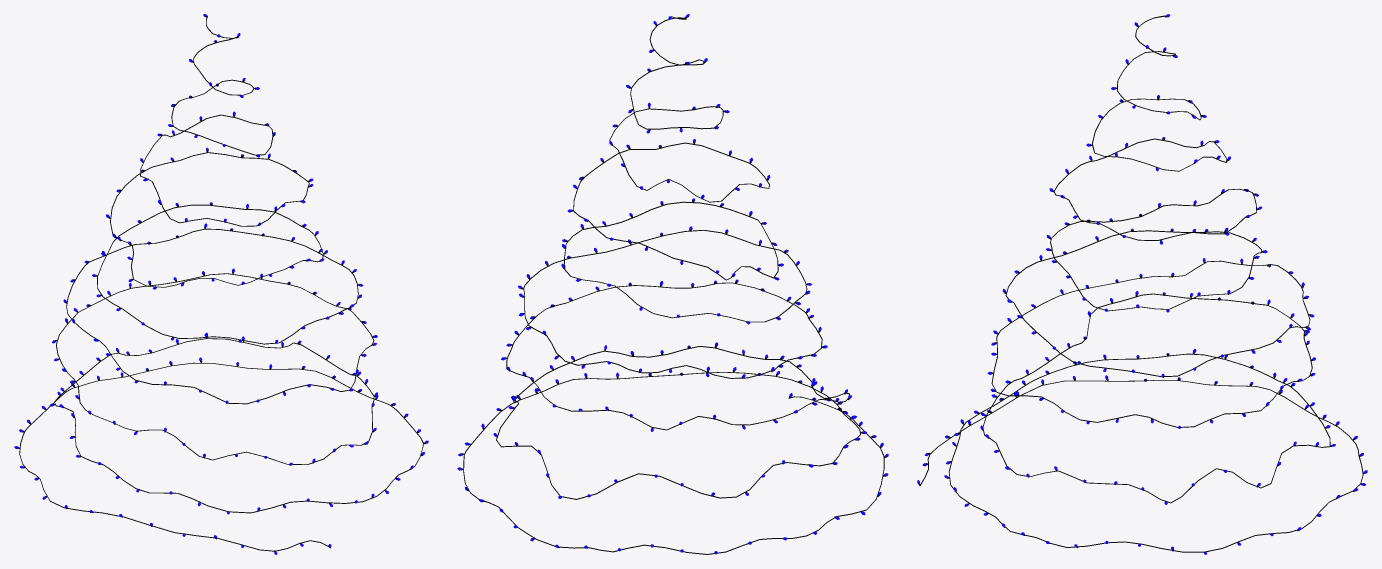
The model's file is ChrsitmasLights.fbx.
3 renders of one model, left to right at view 1: azimuth 30°, elevation 25°; view 2: azimuth 150°, elevation 25°; view 3: azimuth 270°, elevation 25°, orthographic. The views are drawn at different scales.
Parts seen in each view (by area): view 1: BulbsGen; view 2: BulbsGen; view 3: BulbsGen.
Part boxes in pixels (x1=…): BulbsGen: x1=14, y1=14, x2=428, y2=554; BulbsGen: x1=457, y1=14, x2=888, y2=554; BulbsGen: x1=917, y1=14, x2=1367, y2=554.
Size of the model in its own units: 121 by 148 by 129.
